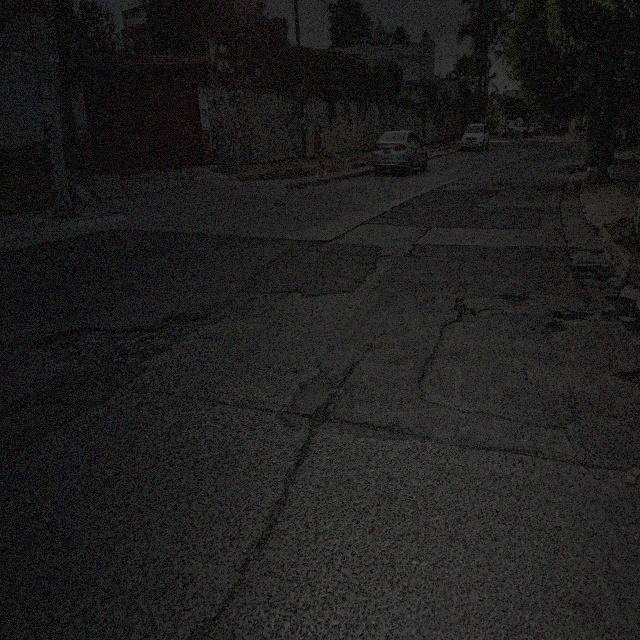pothole: (30, 305, 204, 370), (612, 290, 635, 315), (500, 288, 528, 306), (453, 296, 472, 318), (572, 264, 600, 278), (544, 316, 564, 334)
